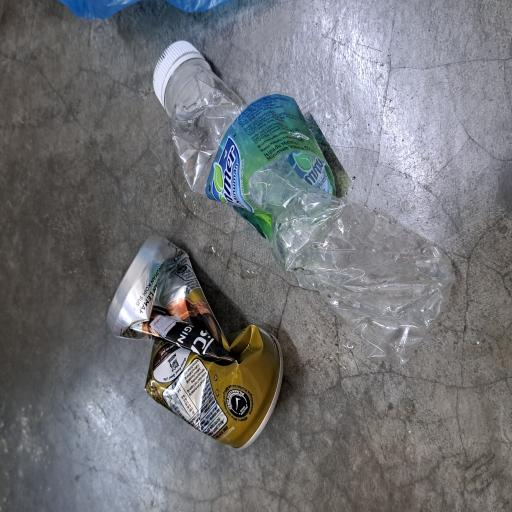can: (48, 130, 203, 378)
plastic bottle: (118, 220, 335, 512)
plastic bottle cap: (304, 202, 357, 274)
